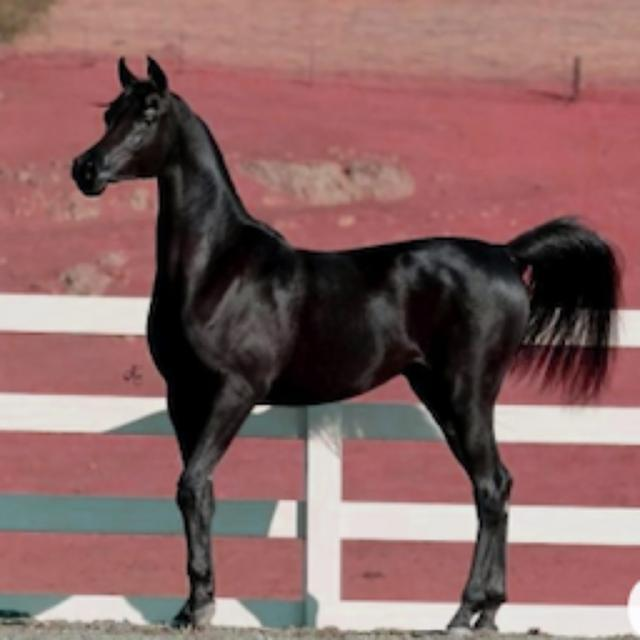Horse: (62, 47, 630, 635)
